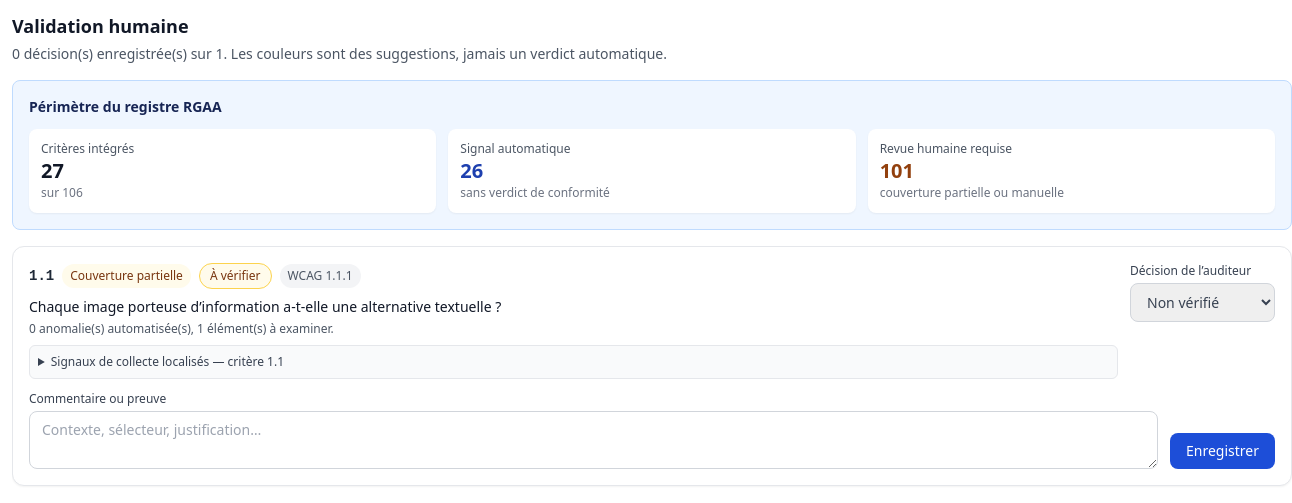
Test case: ReviewWorkspace › autorise une décision humaine sans commentaire
Select "Conforme" in the dropdown named "Décision humaine pour le critère 1.1" at (1202, 302), box [1130, 283, 1275, 322]
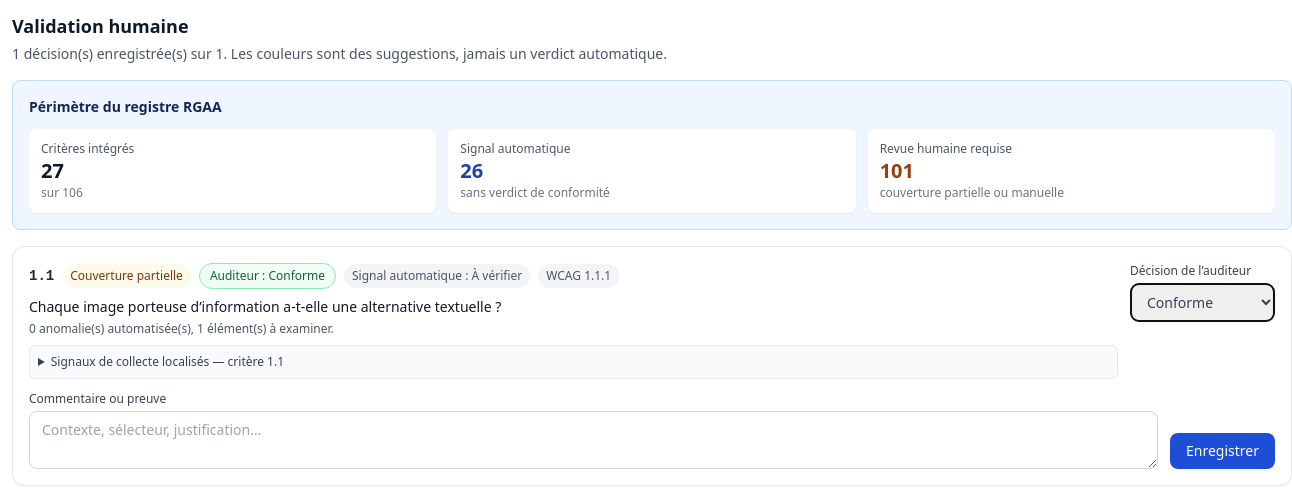
Click the button "Enregistrer".
click(1222, 451)  # box [1170, 433, 1275, 469]
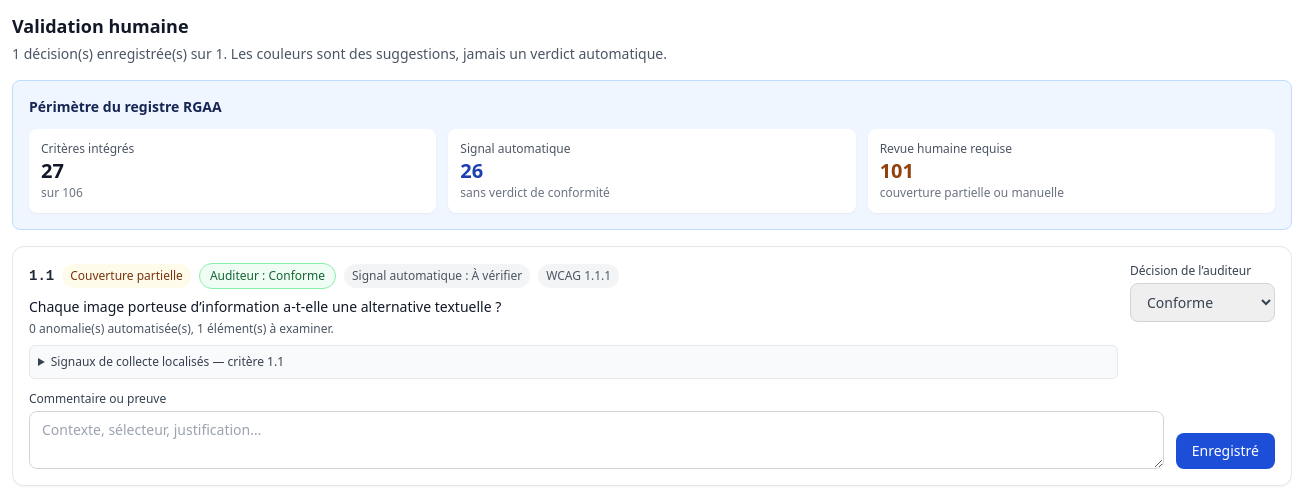
Result: the button "Enregistré" is shown at [1176, 433, 1275, 469]
